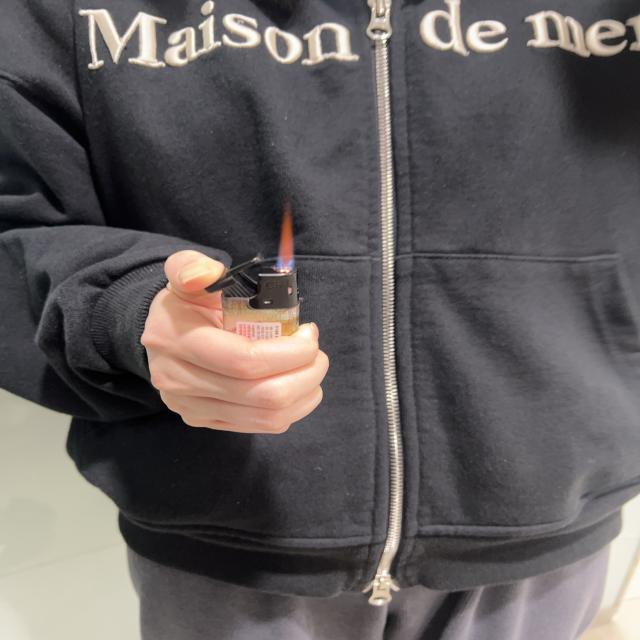fire: (280, 200, 294, 270)
